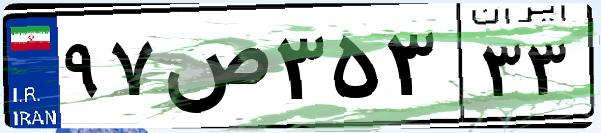3: (270, 28, 330, 110), (385, 28, 445, 110), (475, 38, 525, 113), (525, 38, 570, 115)
5: (330, 28, 385, 110)
7: (110, 28, 158, 98)
9: (57, 26, 110, 100)
ص: (158, 20, 270, 120)
